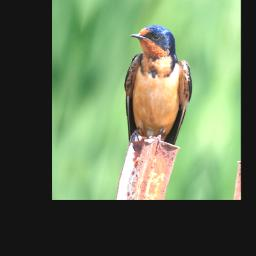Swallow: (106, 19, 205, 163)
